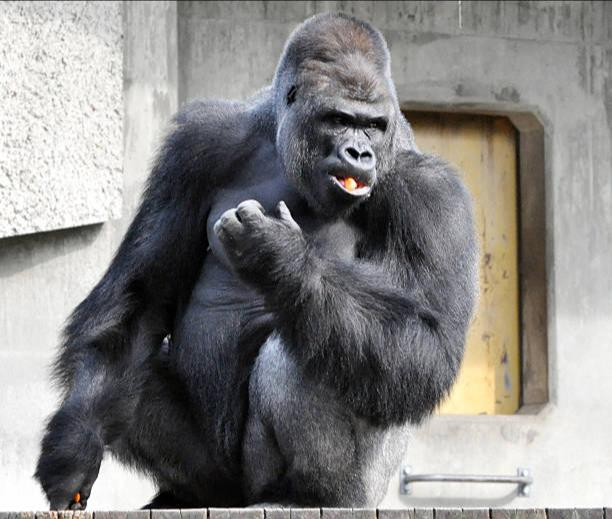gorille_Autres: (79, 0, 487, 519)
